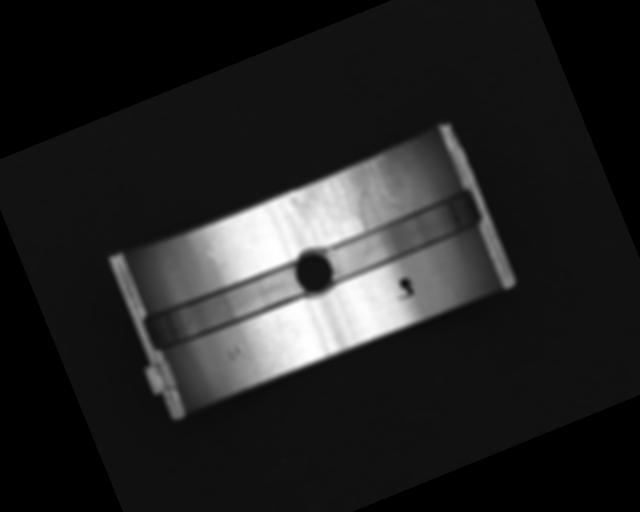blot: (392, 275, 418, 301)
bruise: (225, 344, 245, 363)
gap: (316, 188, 482, 286), (141, 258, 308, 355)
hole: (289, 241, 342, 301)
nick: (206, 243, 239, 287)
scratch: (288, 152, 412, 251)
